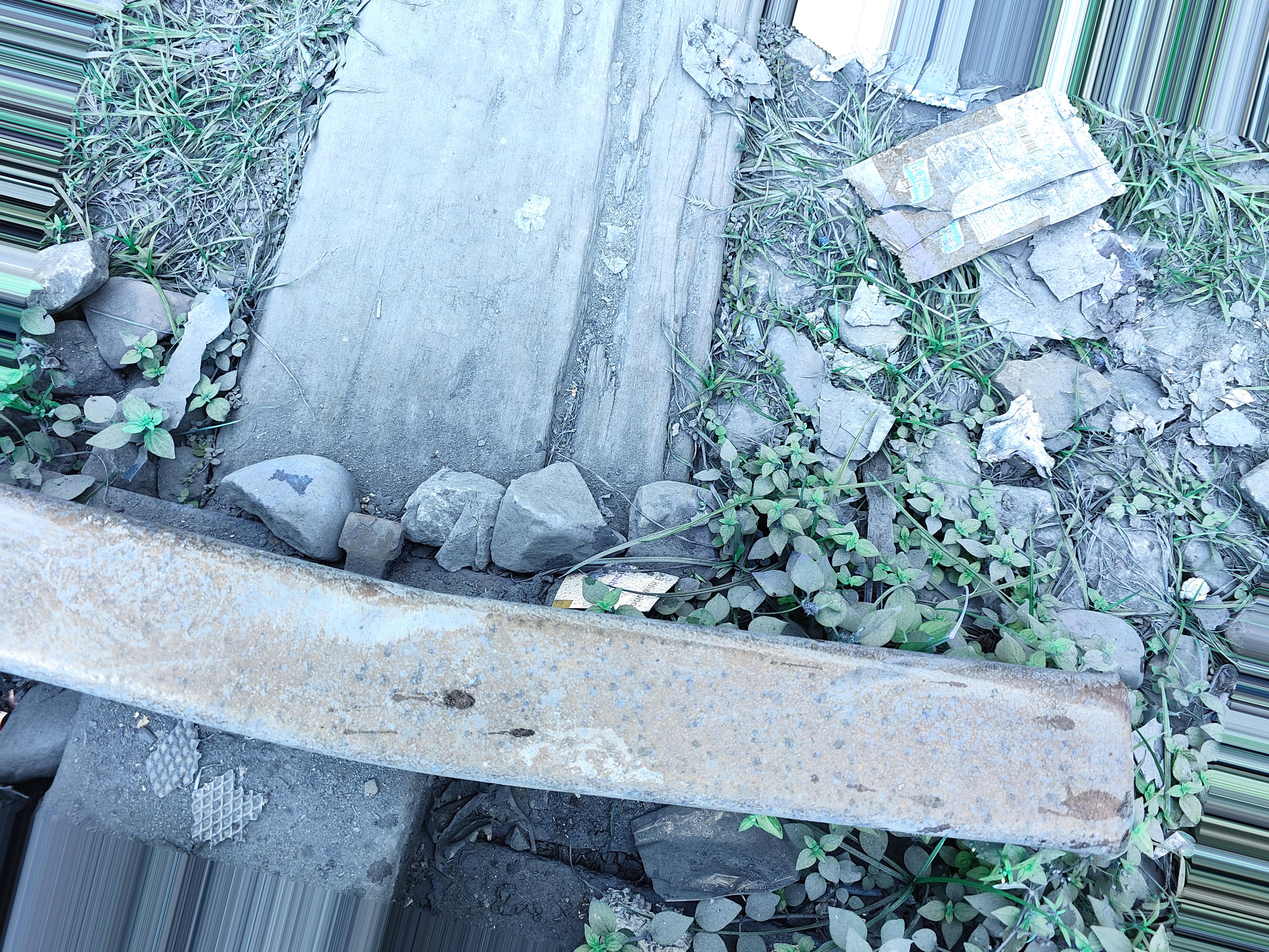tracks_fault: (987, 637, 1269, 871)
